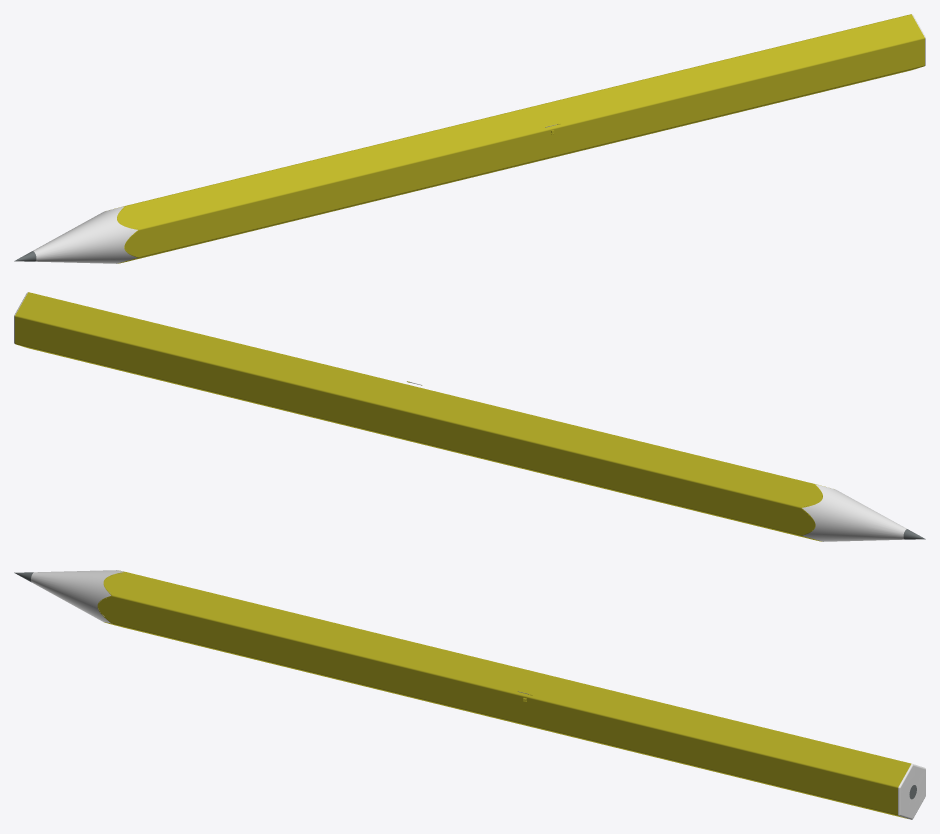
File: potlood.fbx
The picture shows the model from 3 angles, top to bottom: view 1: azimuth 30°, elevation 25°; view 2: azimuth 150°, elevation 25°; view 3: azimuth 330°, elevation 25°; orthographic projection.
Visible parts, largest first — view 1: Objet_1, Objet_15; view 2: Objet_1, Objet_15; view 3: Objet_1, Objet_15, Objet_16.
Part boxes in pixels (x1,y1,x2,y2): Objet_1: (114,14,924,263); Objet_15: (33,206,137,263); Objet_1: (15,292,825,541); Objet_15: (802,484,906,541); Objet_1: (97,570,911,818); Objet_15: (31,570,123,623); Objet_16: (898,764,925,819).
Size of the model in its own units: 709 by 42.04 by 38.12.
